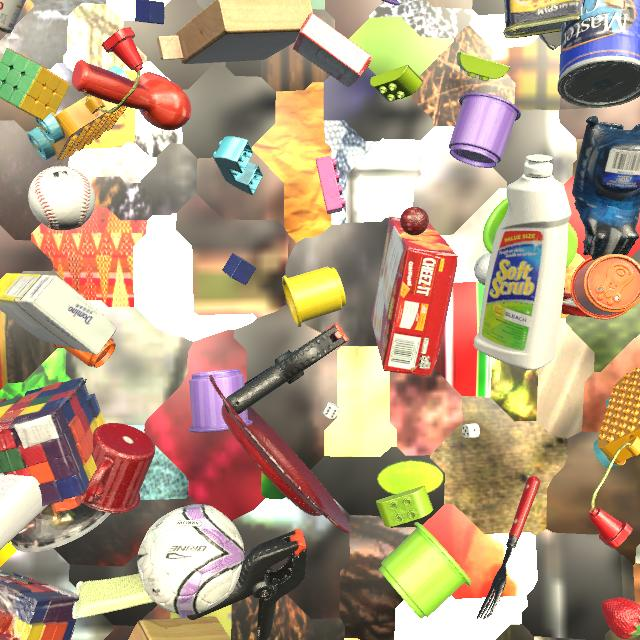ycb_002_master_chef_can: (558, 0, 640, 108)
ycb_003_cracker_box: (371, 216, 458, 376)
ycb_004_sugar_box: (0, 273, 116, 355), (539, 31, 561, 50)
ycb_005_tomato_soup_can: (0, 0, 26, 33)
ycb_009_gelatin_box: (293, 12, 373, 87)
ycb_010_potted_meat_can: (503, 0, 584, 38)
ycb_012_strawberry: (601, 597, 640, 639)
